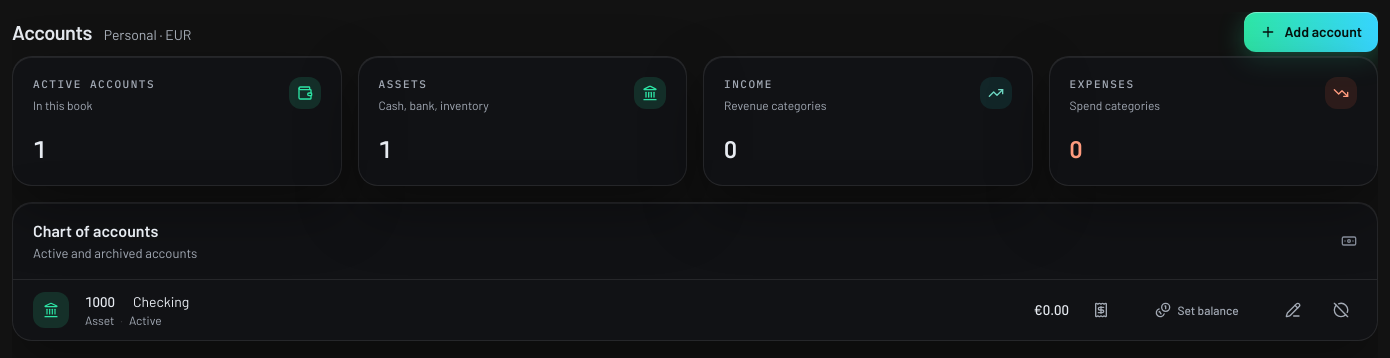
Scenario: AccountsPage register drill-in › row action shows the register table with running balance
This screenshot has width=1390, height=358.
expect the text "Checking" is shown: met, box 133,292 -> 189,312
Click the button named "checking register" at (1101, 310), box 1085,294 -> 1117,326
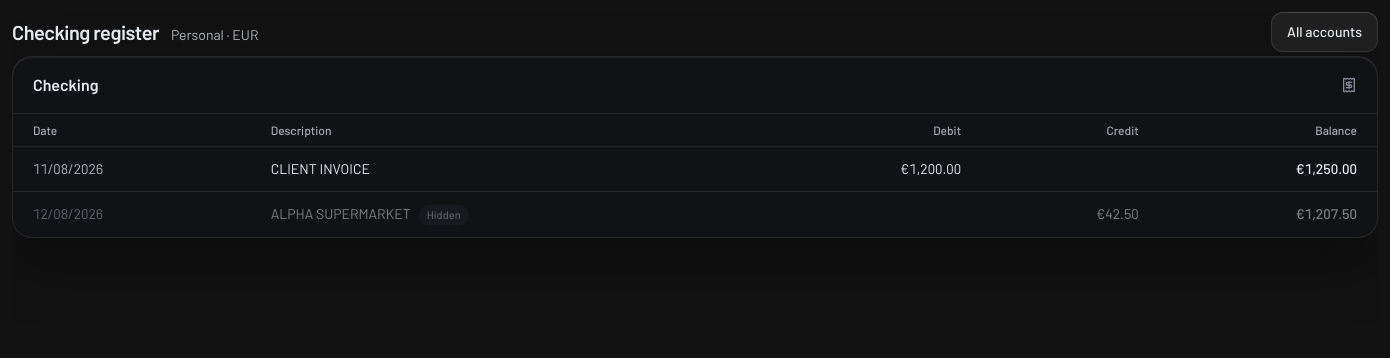
expect the text "CLIENT INVOICE" is shown: met, box 271,160 -> 370,177
